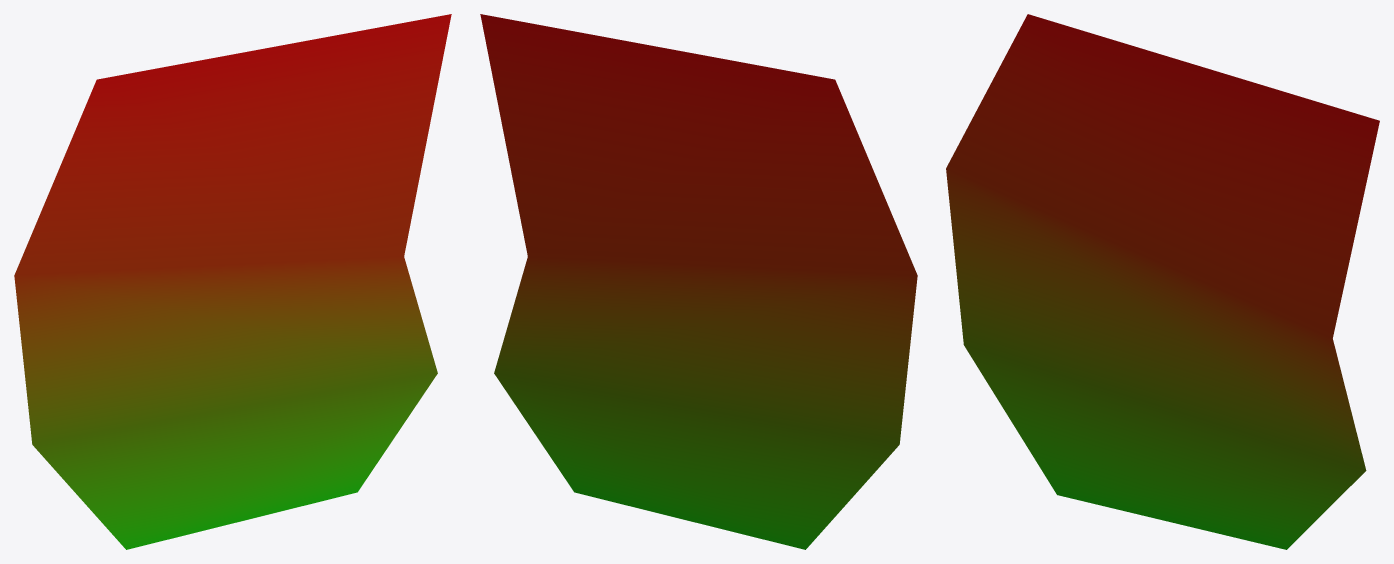
The model's file is White Ramping Fumitory_LOD4_Var1_ti4efc3ia.fbx.
3 renders of one model, left to right at view 1: azimuth 30°, elevation 25°; view 2: azimuth 150°, elevation 25°; view 3: azimuth 330°, elevation 25°, orthographic.
Visible parts, largest first — view 1: _a502_Var1_LOD4; view 2: _a502_Var1_LOD4; view 3: _a502_Var1_LOD4.
Part boxes in pixels (bbox=[...]): _a502_Var1_LOD4: bbox=[14, 14, 451, 549]; _a502_Var1_LOD4: bbox=[480, 14, 917, 549]; _a502_Var1_LOD4: bbox=[946, 14, 1379, 549].
Size of the model in its own units: 86.69 by 90.46 by 5.96e-08.
